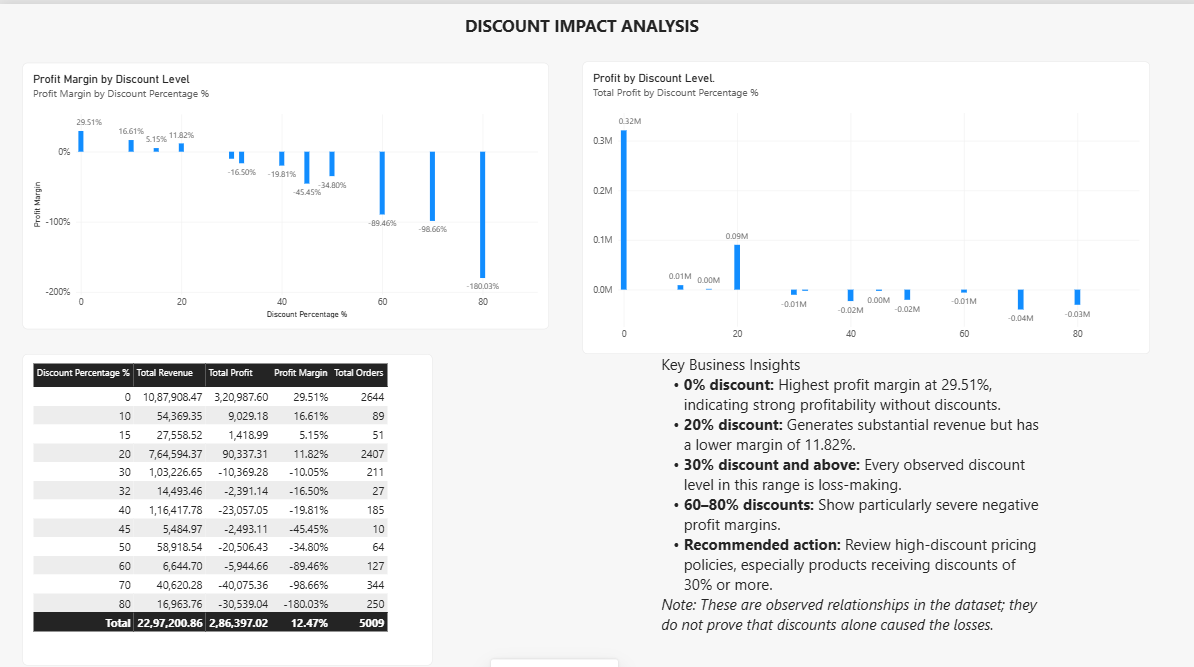

This screenshot's page, from the dashboard's own definition file:
{"tool":"powerbi","page":{"name":"Discount Impact","canvas":[1920,1080],"ordinal":2},"visuals":[{"type":"textbox","box":[744.2,15.4,432.7,46.2],"z":0},{"type":"lineChart","title":"Profit Margin by Discount Level","fields":{"Category":["public sample.Discount Percentage %"],"Y":["public sample.Profit Margin"]},"box":[36,94,842,426],"z":1000},{"type":"clusteredColumnChart","title":"Revenue vs Profit by Discount Level.","fields":{"Category":["public sample.Discount Percentage %"],"Y":["public sample.Total Profit"]},"box":[1030,92,810,428],"z":2000},{"type":"tableEx","fields":{"Values":["public sample.Discount Percentage %","public sample.Total Revenue","public sample.Total Profit","public sample.Profit Margin","public sample.Total Orders"]},"box":[36,560,596,498],"z":3000},{"type":"textbox","box":[1058,560,618,498],"z":4000}]}

Visuals, with their boxes in screenshot pixels (x1, y1, x2, y2), scaled from the page's 1920x1080 canvas onto the 1194x667 screenshot:
textbox: bbox(463, 10, 732, 38)
"Profit Margin by Discount Level" lineChart: bbox(22, 58, 546, 321)
"Revenue vs Profit by Discount Level." clusteredColumnChart: bbox(641, 57, 1144, 321)
tableEx - public sample.Discount Percentage % x public sample.Total Revenue: bbox(22, 346, 393, 653)
textbox: bbox(658, 346, 1042, 653)
